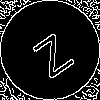Z: (25, 25, 76, 79)
